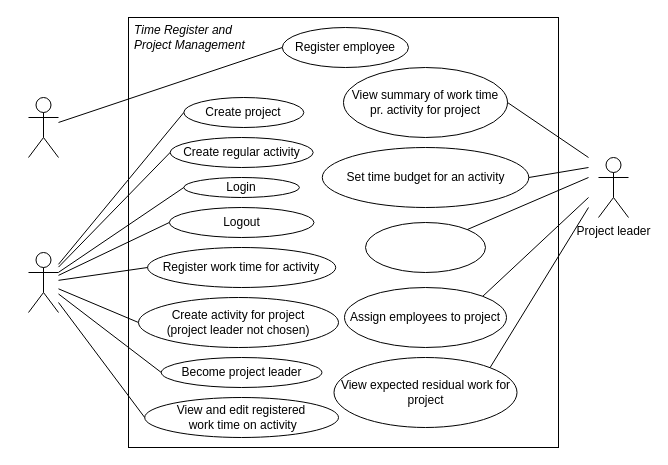
This 668x465 diagram has some shape labels left out. Here are the shapes that lost their labels. From the top down, the centre of each, then its label:
the point at 43,127: Guest
the point at 425,247: Create activity for project
the point at 43,282: Employee
